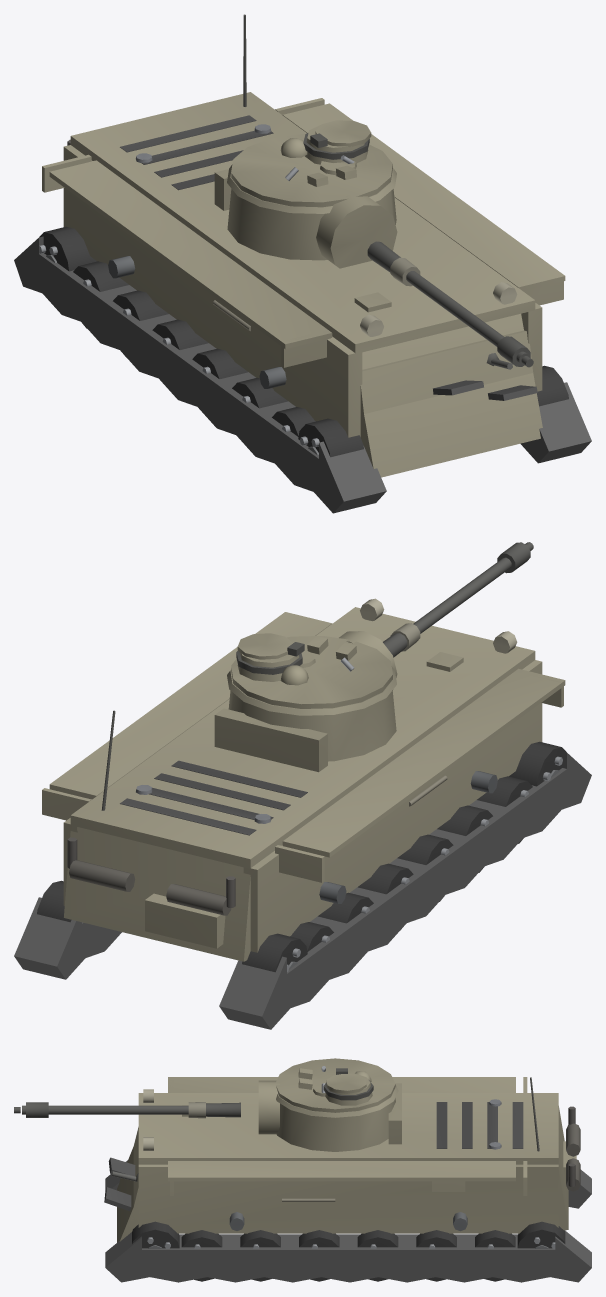
File: chiri.glb
3 renders of one model, top to bottom at view 1: azimuth 30°, elevation 25°; view 2: azimuth 150°, elevation 25°; view 3: azimuth 270°, elevation 25°, orthographic. The views are drawn at different scales.
Parts seen in each view (by area): view 1: hullSide, hullTop, tracks, glacis, turretRoof, lowerPlate, turretFront, mantlet, barrel, wheel7, wheel6, turretSide (+7 smaller); view 2: hullSide, hullTop, tracks, hullRear, turretRoof, turretFront, turretRear, barrel, wheel6, wheel7, turretSide, wheel3 (+7 smaller); view 3: hullSide, hullTop, tracks, turretRoof, turretFront, barrel, hullRear, glacis, mantlet, wheel15, wheel14, turretSide (+8 smaller).
Part boxes in pixels (box(x1,y1,x2,y2)): hullSide: box(42, 98, 565, 437); hullTop: box(70, 92, 535, 353); tracks: box(14, 236, 591, 513); glacis: box(354, 292, 542, 477); turretRoof: box(231, 120, 392, 207); lowerPlate: box(360, 330, 533, 443); turretFront: box(227, 188, 396, 260); mantlet: box(316, 194, 397, 268); barrel: box(367, 241, 533, 367); wheel7: box(39, 226, 96, 271); wheel6: box(298, 418, 363, 457); turretSide: box(227, 164, 396, 213); hullSide: box(42, 598, 565, 952); hullTop: box(70, 607, 535, 868); tracks: box(14, 751, 591, 1029); hullRear: box(64, 710, 251, 961); turretRoof: box(231, 633, 392, 708); turretFront: box(228, 690, 396, 761); turretRear: box(214, 708, 327, 772); barrel: box(383, 542, 533, 657); wheel6: box(509, 741, 566, 786); wheel7: box(242, 933, 307, 972); turretSide: box(227, 666, 396, 715); wheel3: box(397, 834, 453, 901); hullSide: box(138, 1077, 558, 1233); hullTop: box(138, 1093, 558, 1164); tracks: box(105, 1160, 591, 1282); turretRoof: box(276, 1058, 395, 1112); turretFront: box(276, 1098, 395, 1151); barrel: box(14, 1102, 240, 1118); hullRear: box(530, 1077, 580, 1230); glacis: box(104, 1105, 188, 1242); mantlet: box(258, 1080, 279, 1134); wheel15: box(517, 1221, 565, 1248); wheel14: box(132, 1221, 179, 1248); turretSide: box(276, 1085, 398, 1117).
Size of the model in its own units: 3.58 by 3.07 by 8.67.
